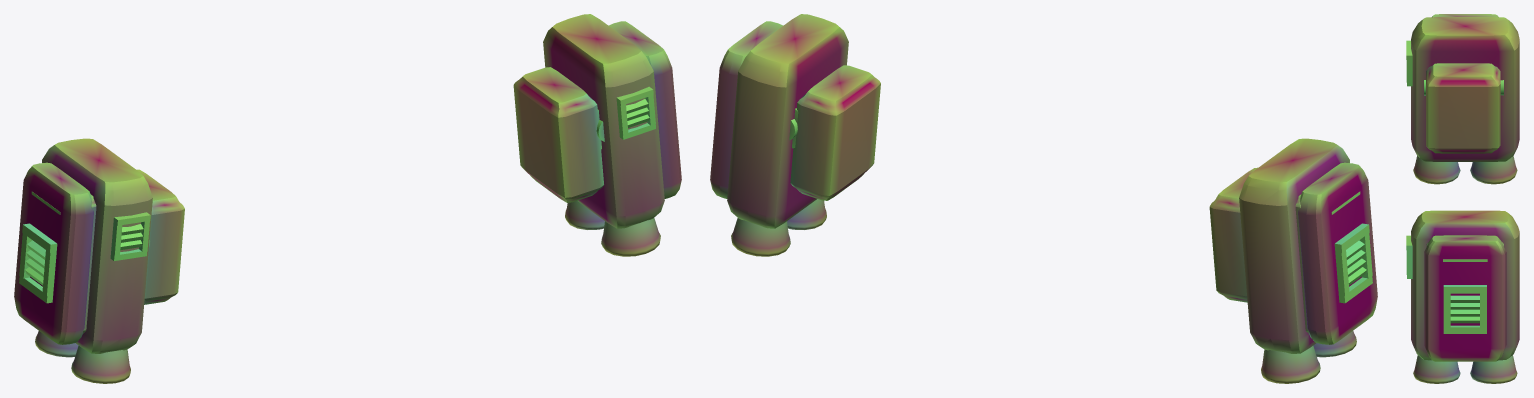
The model's file is llm_gen_leg_thrusters_045_af5a2a.glb.
3 renders of one model, left to right at view 1: azimuth 30°, elevation 25°; view 2: azimuth 150°, elevation 25°; view 3: azimuth 270°, elevation 25°, orthographic. The views are drawn at different scales.
Visible parts, largest first — view 1: greave_pylon_0_barrel_metal_r, greave_pylon_0_barrel_metal_l, lateral_binder_shroud_2_cobalt_anodized_l, adapter_calf_clamp_r, adapter_calf_clamp_l, lateral_binder_shroud_2_cobalt_anodized_r, ankle_vector_bell_b_7_vernier_bell_vernier_l, ankle_vector_bell_b_7_vernier_bell_vernier_r, adapter_sub_binder_side_vent_3_dark_l, adapter_sub_greave_intake_grille_5_dark_l, adapter_sub_greave_intake_grille_5_dark_r, ankle_vector_bell_a_6_vernier_bell_vernier_r (+2 smaller); view 2: greave_pylon_0_barrel_metal_r, greave_pylon_0_barrel_metal_l, lateral_binder_shroud_2_cobalt_anodized_l, adapter_calf_clamp_r, lateral_binder_shroud_2_cobalt_anodized_r, adapter_calf_clamp_l, ankle_vector_bell_a_6_vernier_bell_vernier_l, ankle_vector_bell_a_6_vernier_bell_vernier_r, adapter_sub_binder_side_vent_3_dark_l, ankle_vector_bell_b_7_vernier_bell_vernier_r, binder_side_vent_3_intake_gold_l, ankle_vector_bell_b_7_vernier_bell_vernier_l; view 3: greave_pylon_0_barrel_metal_l, lateral_binder_shroud_2_cobalt_anodized_r, adapter_calf_clamp_l, greave_pylon_0_barrel_metal_r, adapter_sub_binder_side_vent_3_dark_r, ankle_vector_bell_a_6_vernier_bell_vernier_r, ankle_vector_bell_b_7_vernier_bell_vernier_r, ankle_vector_bell_a_6_vernier_bell_vernier_l, ankle_vector_bell_b_7_vernier_bell_vernier_l, binder_side_vent_3_intake_gold_r, adapter_sub_greave_intake_grille_5_dark_l, adapter_sub_greave_intake_grille_5_dark_r (+2 smaller).
Boxes of the visible parts, x1=… form: greave_pylon_0_barrel_metal_r: x1=543, y1=14, x2=664, y2=228; greave_pylon_0_barrel_metal_l: x1=42, y1=138, x2=152, y2=353; lateral_binder_shroud_2_cobalt_anodized_l: x1=14, y1=162, x2=93, y2=344; adapter_calf_clamp_r: x1=513, y1=67, x2=603, y2=202; adapter_calf_clamp_l: x1=136, y1=169, x2=184, y2=304; lateral_binder_shroud_2_cobalt_anodized_r: x1=608, y1=21, x2=681, y2=198; ankle_vector_bell_b_7_vernier_bell_vernier_l: x1=71, y1=345, x2=130, y2=383; ankle_vector_bell_b_7_vernier_bell_vernier_r: x1=601, y1=218, x2=660, y2=256; adapter_sub_binder_side_vent_3_dark_l: x1=19, y1=223, x2=57, y2=303; adapter_sub_greave_intake_grille_5_dark_l: x1=110, y1=212, x2=150, y2=260; adapter_sub_greave_intake_grille_5_dark_r: x1=616, y1=86, x2=655, y2=139; ankle_vector_bell_a_6_vernier_bell_vernier_r: x1=565, y1=201, x2=604, y2=229; greave_pylon_0_barrel_metal_r: x1=727, y1=14, x2=848, y2=228; greave_pylon_0_barrel_metal_l: x1=1239, y1=138, x2=1349, y2=353; lateral_binder_shroud_2_cobalt_anodized_l: x1=1298, y1=162, x2=1377, y2=344; adapter_calf_clamp_r: x1=790, y1=65, x2=880, y2=200; lateral_binder_shroud_2_cobalt_anodized_r: x1=710, y1=21, x2=783, y2=198; adapter_calf_clamp_l: x1=1209, y1=167, x2=1257, y2=302; ankle_vector_bell_a_6_vernier_bell_vernier_l: x1=1261, y1=345, x2=1320, y2=383; ankle_vector_bell_a_6_vernier_bell_vernier_r: x1=731, y1=218, x2=790, y2=256; adapter_sub_binder_side_vent_3_dark_l: x1=1334, y1=223, x2=1372, y2=303; ankle_vector_bell_b_7_vernier_bell_vernier_r: x1=787, y1=199, x2=826, y2=229; binder_side_vent_3_intake_gold_l: x1=1346, y1=240, x2=1366, y2=285; ankle_vector_bell_b_7_vernier_bell_vernier_l: x1=1313, y1=331, x2=1356, y2=357; greave_pylon_0_barrel_metal_l: x1=1411, y1=17, x2=1519, y2=161; lateral_binder_shroud_2_cobalt_anodized_r: x1=1424, y1=235, x2=1506, y2=361; adapter_calf_clamp_l: x1=1426, y1=63, x2=1500, y2=153; greave_pylon_0_barrel_metal_r: x1=1411, y1=210, x2=1519, y2=360; adapter_sub_binder_side_vent_3_dark_r: x1=1443, y1=285, x2=1486, y2=333; ankle_vector_bell_a_6_vernier_bell_vernier_r: x1=1470, y1=355, x2=1517, y2=383; ankle_vector_bell_b_7_vernier_bell_vernier_r: x1=1413, y1=355, x2=1460, y2=383; ankle_vector_bell_a_6_vernier_bell_vernier_l: x1=1470, y1=156, x2=1517, y2=184; ankle_vector_bell_b_7_vernier_bell_vernier_l: x1=1413, y1=156, x2=1460, y2=184; binder_side_vent_3_intake_gold_r: x1=1450, y1=295, x2=1479, y2=323; adapter_sub_greave_intake_grille_5_dark_l: x1=1406, y1=40, x2=1412, y2=86; adapter_sub_greave_intake_grille_5_dark_r: x1=1406, y1=235, x2=1412, y2=278.
Size of the model in its own units: 84.2 by 25.43 by 16.74.
